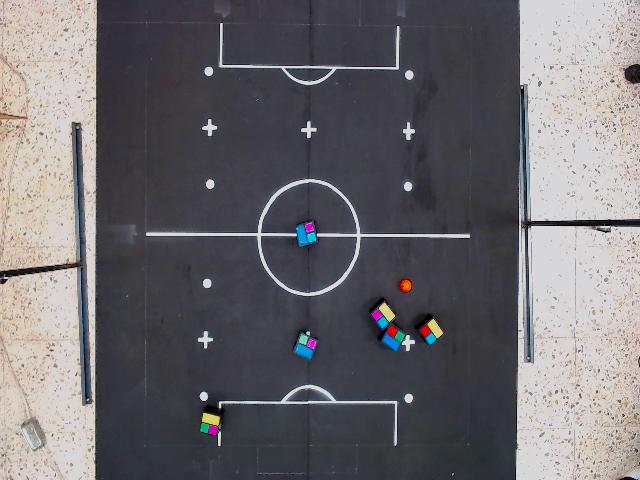robot: (368, 300, 398, 332), (291, 331, 320, 362), (417, 315, 445, 347), (379, 322, 407, 353), (294, 218, 319, 249), (198, 410, 222, 438)
